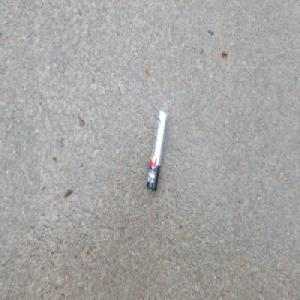Battery: (146, 109, 167, 193)
